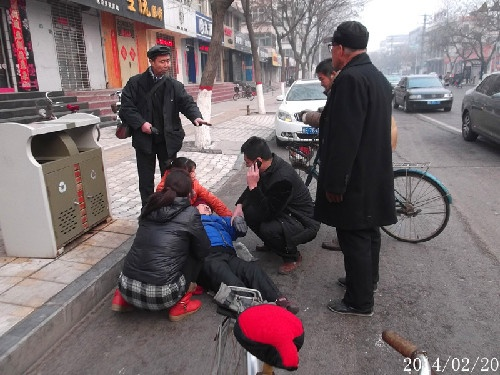falling: (189, 201, 297, 316)
